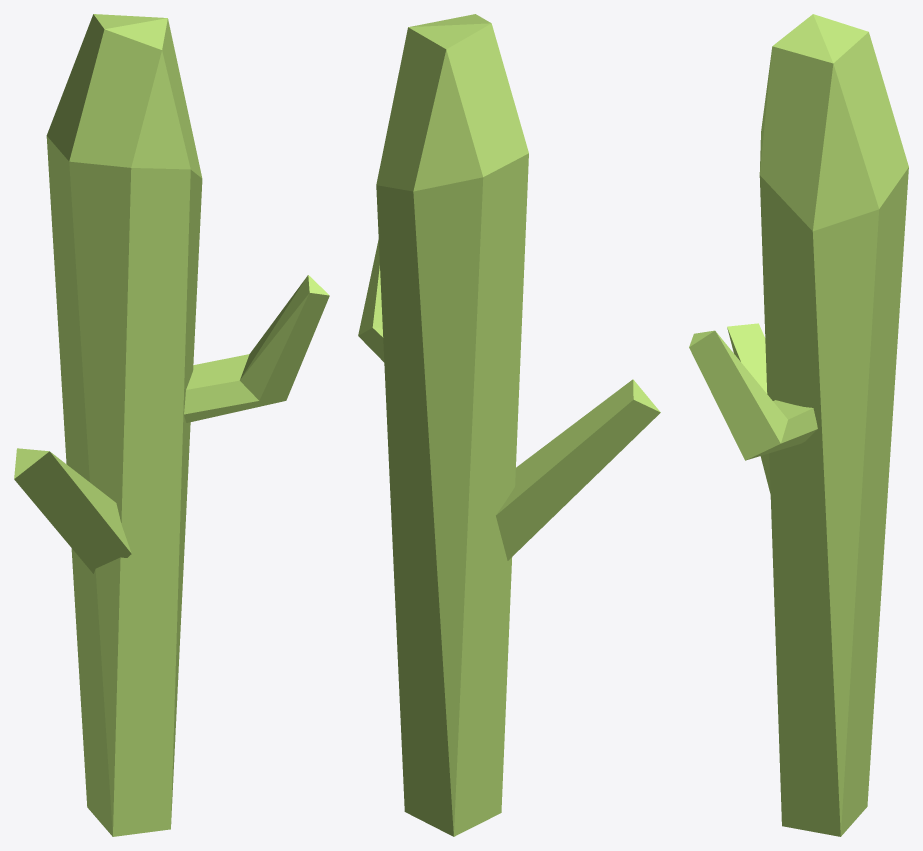
The model's file is Cactus_s_BT_05.fbx.
The picture shows the model from 3 angles, left to right: view 1: azimuth 30°, elevation 25°; view 2: azimuth 150°, elevation 25°; view 3: azimuth 270°, elevation 25°; orthographic projection.
Visible parts, largest first — view 1: Cactus_s_BT_05; view 2: Cactus_s_BT_05; view 3: Cactus_s_BT_05.
Boxes of the visible parts, x1,y1,x2,y2 form: Cactus_s_BT_05: [14, 14, 329, 836]; Cactus_s_BT_05: [358, 14, 660, 836]; Cactus_s_BT_05: [689, 14, 908, 836].
Size of the model in its own units: 28.8 by 75.32 by 19.06.
